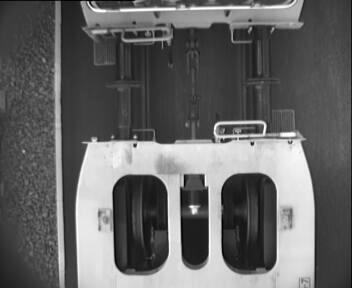Copy of Copy of Copy of wagon_scan: (104, 166, 285, 279)
